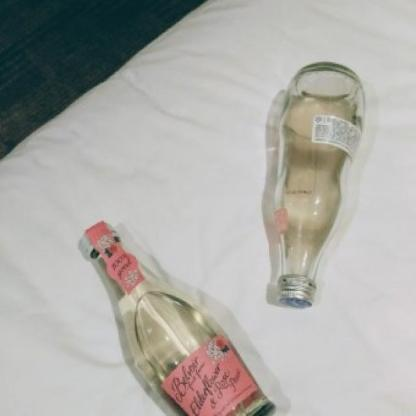Glass Bottle: (82, 220, 278, 416), (274, 62, 366, 310)
